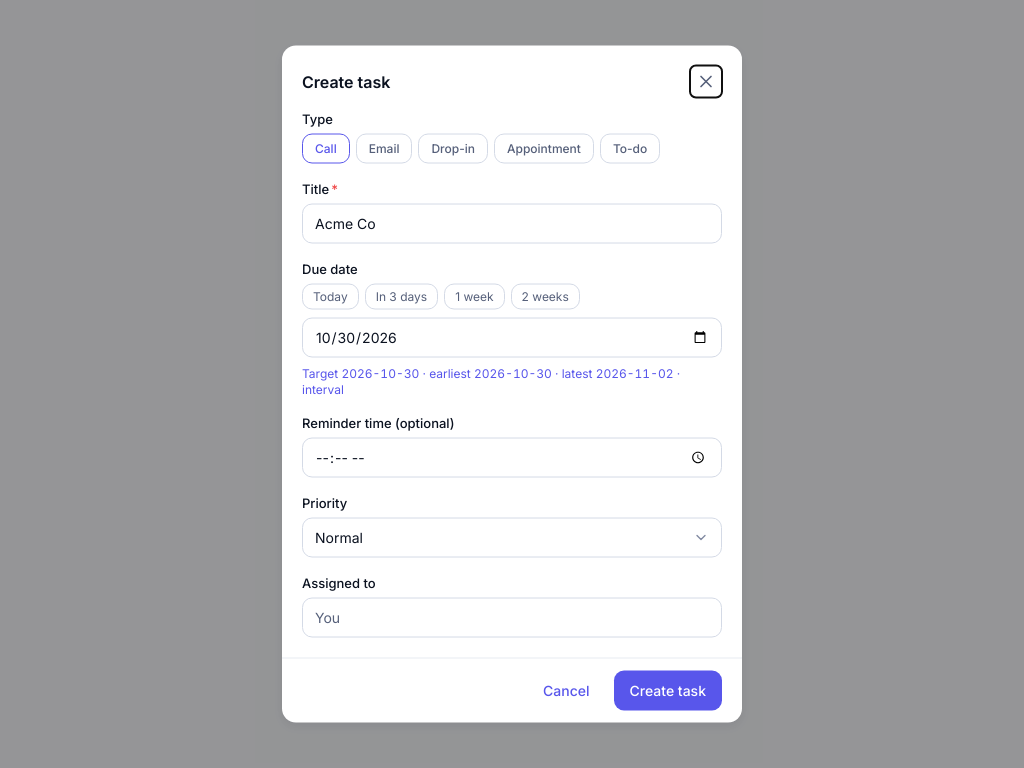
Test case: CreateTaskSheet › hides the time field entirely for a drop-in
What coordinates should you click on to do the following:
click the button "Drop-in"
I would click on:
 (453, 148)
Its box is [418, 134, 488, 164].
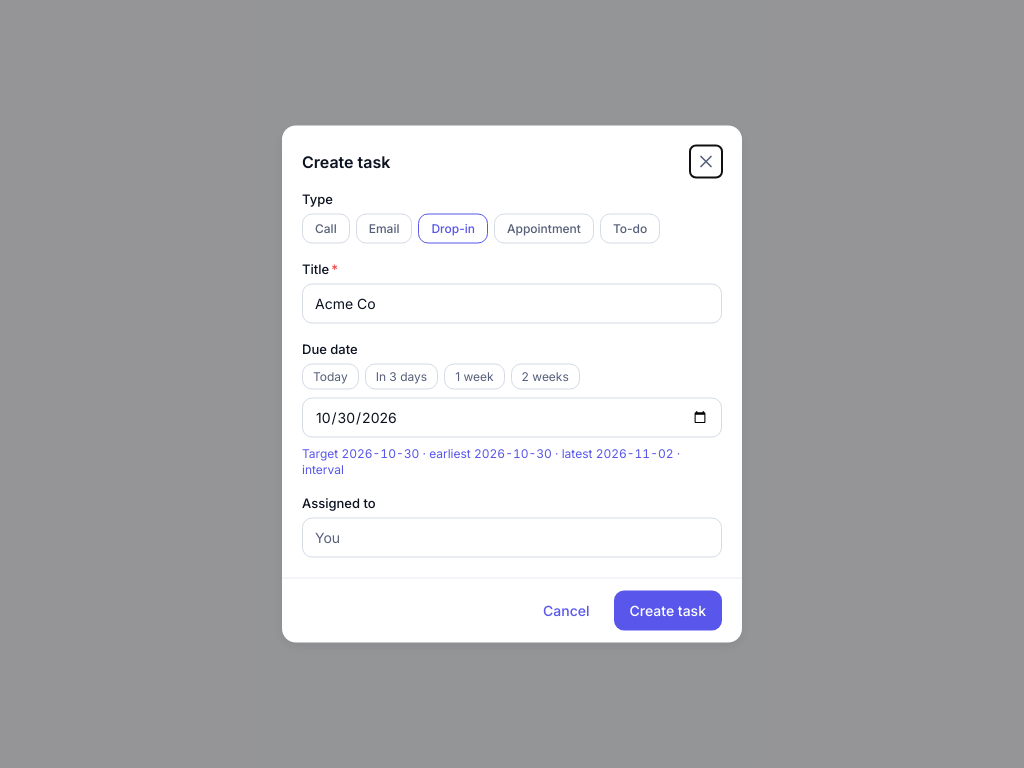
Expected: the label labelled "time" is gone
